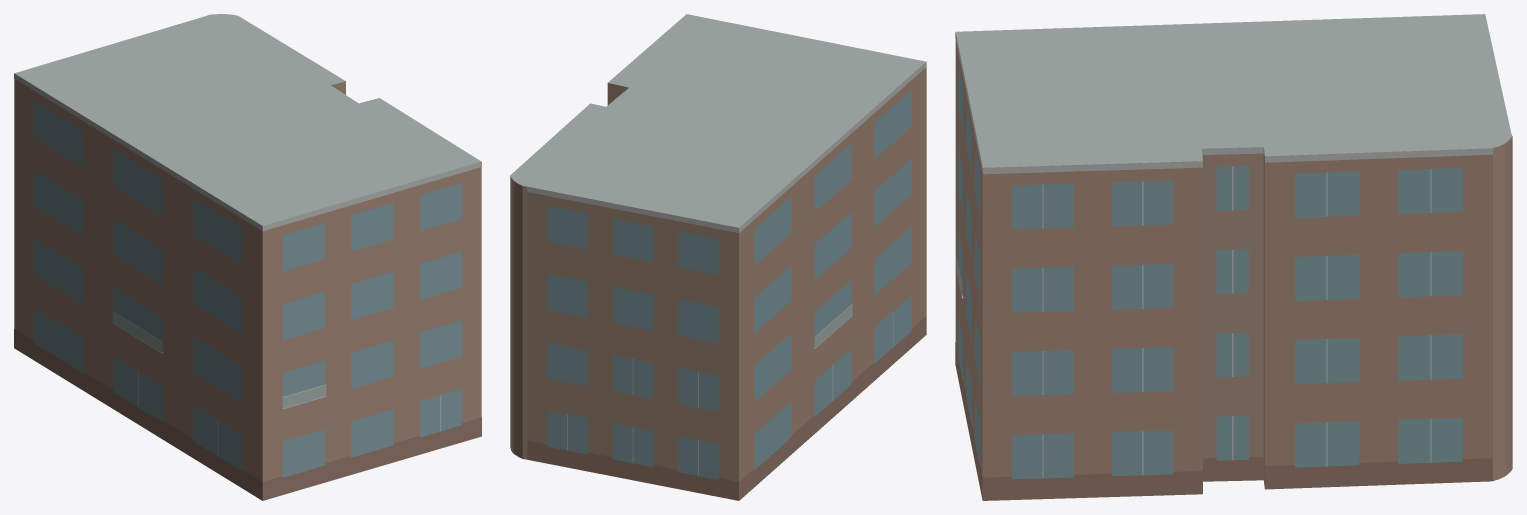
Rendered from survey-upis-32577431.glb.
3 views of the same model, side by side, from view 1: azimuth 30°, elevation 25°; view 2: azimuth 150°, elevation 25°; view 3: azimuth 270°, elevation 25° (orthographic). The views are drawn at different scales.
Parts seen in each view (by area): view 1: survey-upis-32577431.tmp; view 2: survey-upis-32577431.tmp; view 3: survey-upis-32577431.tmp.
Boxes of the visible parts, bbox=[...] form: survey-upis-32577431.tmp: bbox=[14, 14, 481, 500]; survey-upis-32577431.tmp: bbox=[510, 14, 926, 500]; survey-upis-32577431.tmp: bbox=[955, 14, 1512, 500].
Bounding box in the file's own units: 12.47 × 12.58 × 19.07.
